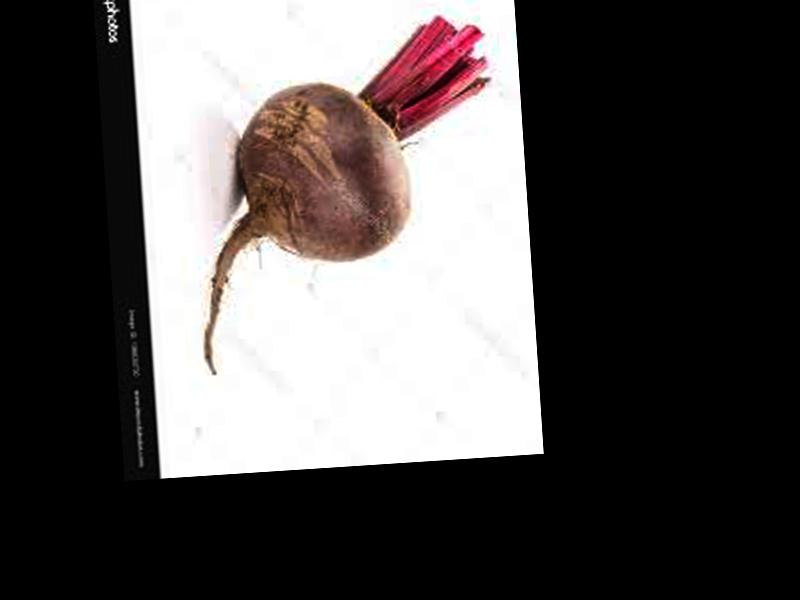Beet: (185, 16, 506, 375)
